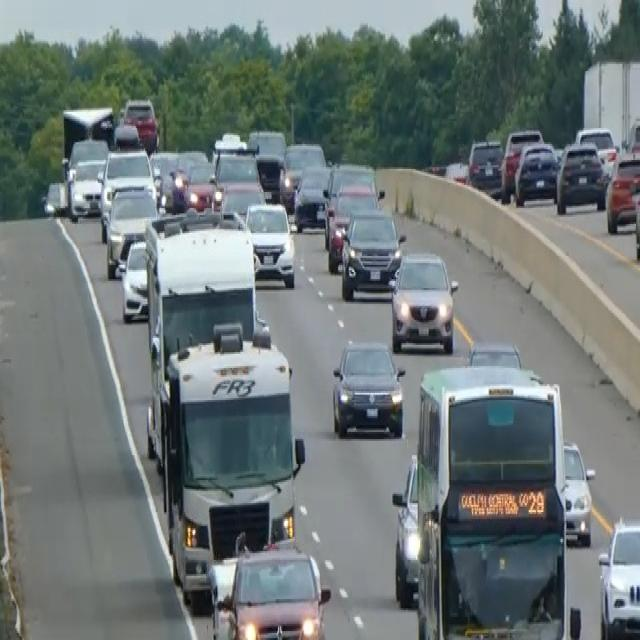bus: (414, 361, 579, 638), (160, 320, 305, 603), (142, 210, 261, 469)
car: (330, 336, 405, 439), (389, 249, 458, 354), (339, 207, 405, 300), (98, 146, 156, 240), (597, 516, 639, 638), (105, 183, 159, 277), (326, 180, 381, 272), (244, 199, 296, 288), (391, 452, 420, 608), (210, 144, 265, 217), (561, 437, 595, 546), (555, 139, 605, 213), (64, 135, 108, 219), (323, 160, 377, 228), (280, 140, 326, 208), (500, 126, 542, 199), (513, 140, 559, 204), (605, 147, 639, 233), (293, 162, 331, 231), (119, 238, 150, 322), (122, 96, 159, 151), (467, 137, 503, 192), (148, 148, 180, 206), (254, 149, 287, 203), (183, 158, 216, 212), (466, 338, 522, 368), (247, 126, 286, 158), (40, 179, 67, 217), (632, 178, 639, 261)
minivan: (205, 528, 332, 638)
